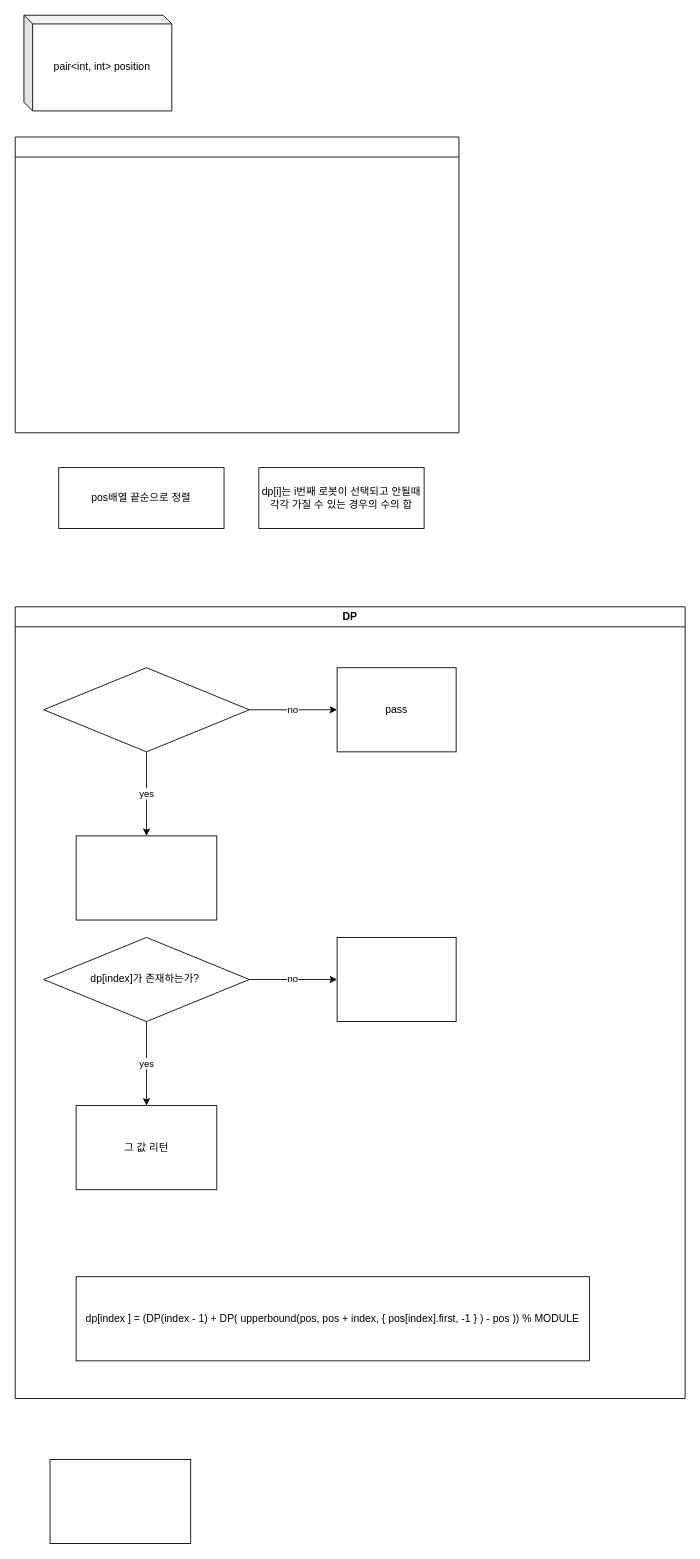
This 700x1559 diagram has some shape labels left out. Here are the shapes that lost their labels. From the top down, the box of each, then its label:
(14, 136, 459, 433): 입력 부분
(43, 667, 249, 752): index 가 0인가?
(75, 835, 217, 920): rreturn 1
(49, 1459, 191, 1544): return DP(N)
